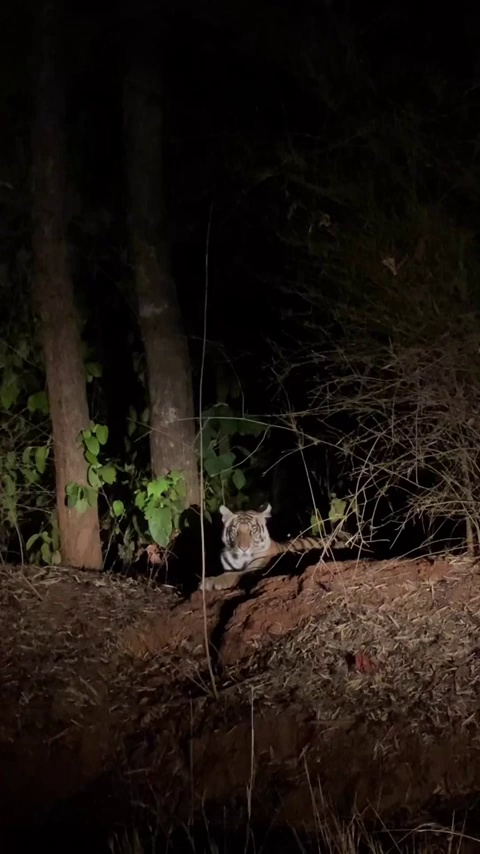Tiger: (200, 498, 361, 596)
